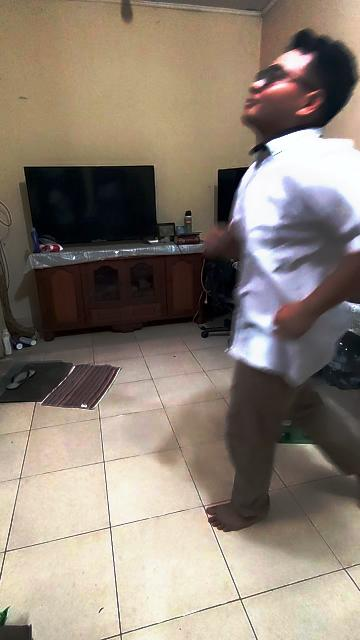berlari: (200, 24, 360, 532)
